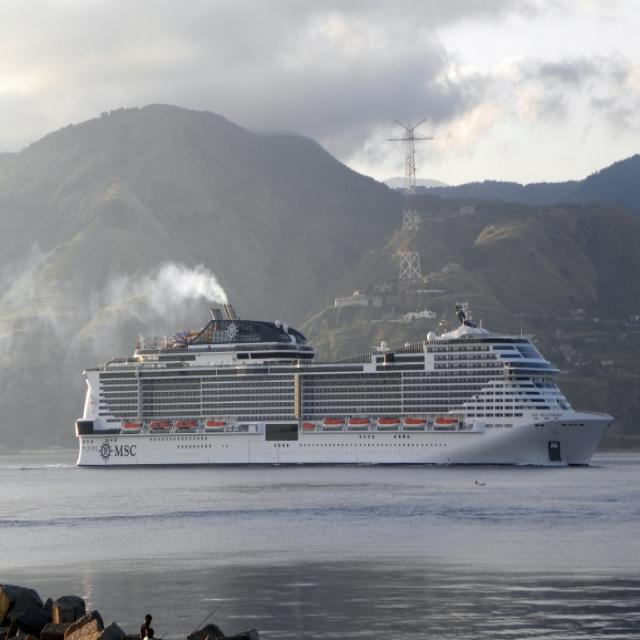cruises: (73, 282, 620, 477)
